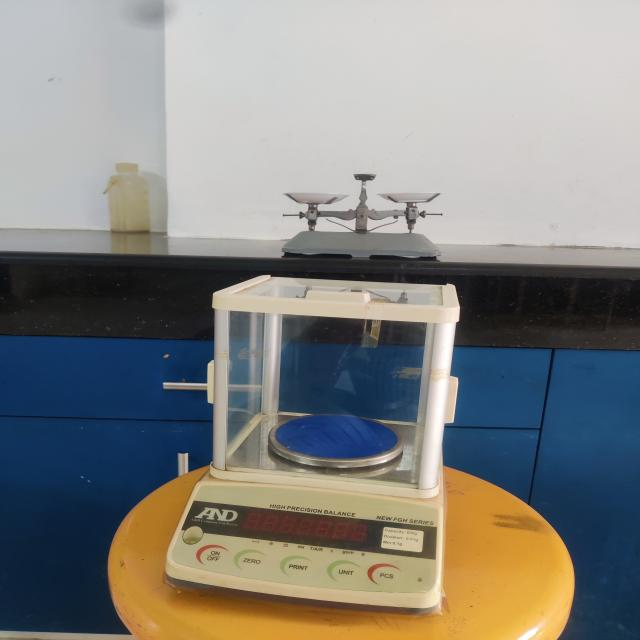Mechanical_Balance_Scale: (269, 157, 482, 278)
Precision_Weight_Scale: (133, 259, 500, 637)
